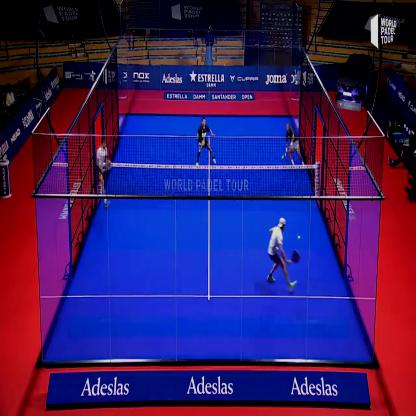ball: (298, 233, 304, 247)
